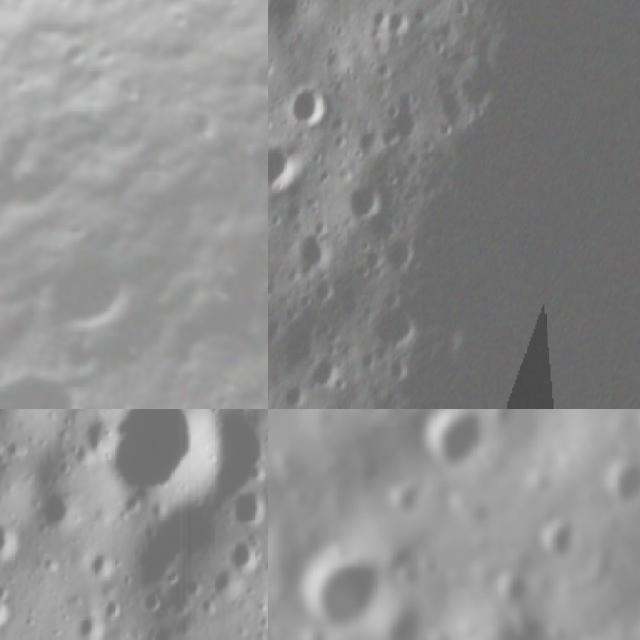crater: (21, 212, 173, 362), (106, 409, 220, 514), (0, 332, 130, 409), (297, 543, 384, 629), (228, 144, 268, 266), (207, 409, 268, 489), (412, 411, 489, 467), (174, 96, 232, 153), (372, 299, 423, 348), (288, 223, 335, 274), (538, 510, 577, 570), (37, 478, 80, 531), (76, 412, 118, 466), (268, 0, 321, 42), (240, 38, 268, 115), (288, 82, 334, 128), (344, 178, 396, 218), (600, 457, 640, 506), (268, 139, 301, 193), (225, 487, 268, 528), (383, 231, 420, 270), (308, 354, 344, 391), (224, 535, 258, 574), (89, 546, 122, 578), (373, 10, 413, 36), (0, 581, 18, 638), (76, 609, 108, 640), (284, 376, 311, 408), (0, 520, 18, 563)
